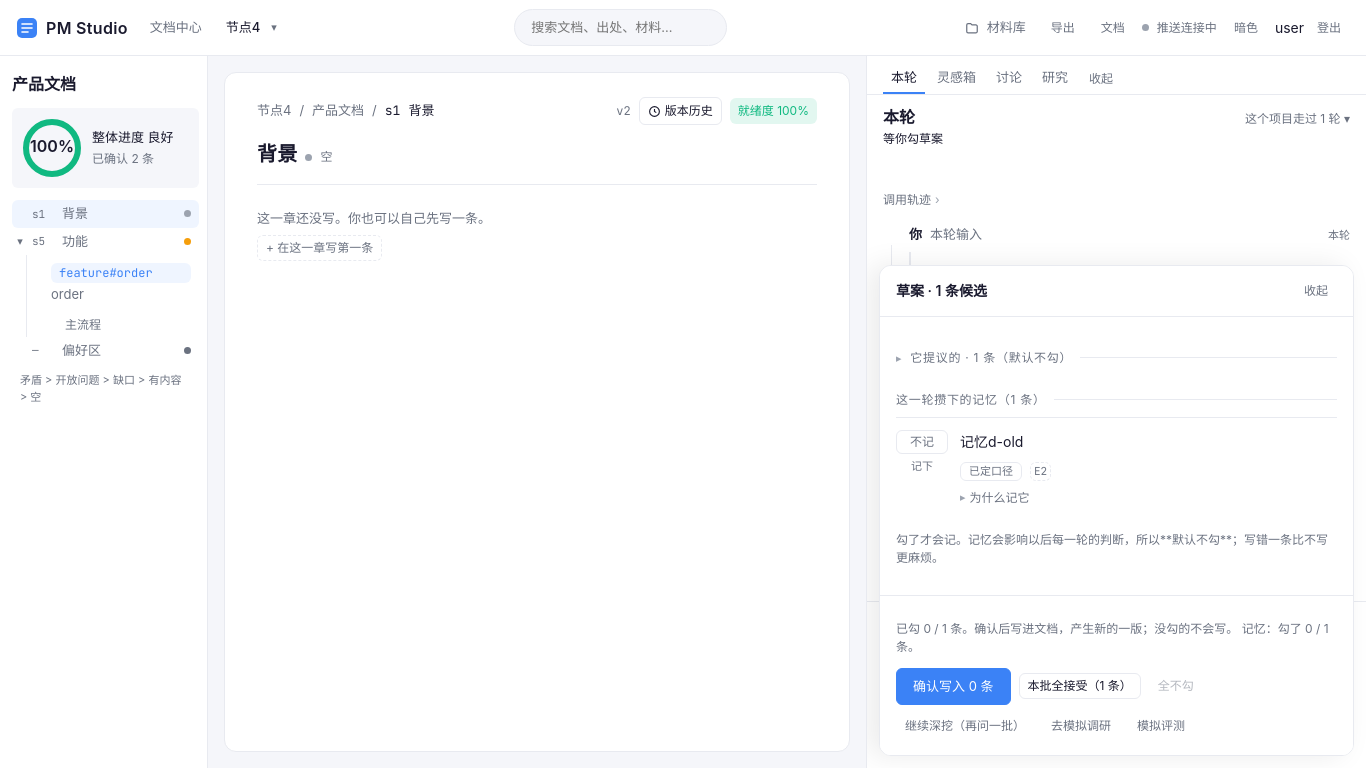
Test: App 精确跳转遇到正文与偏好同ID多命中时提示不可唯一定位，不假跳
Expected: the text "记忆d-old" is shown, [960,433,1023,450]
Click the heading "它提议的 · 1 条（默认不勾）" at coordinates (991, 357), box [910,350,1072,365]
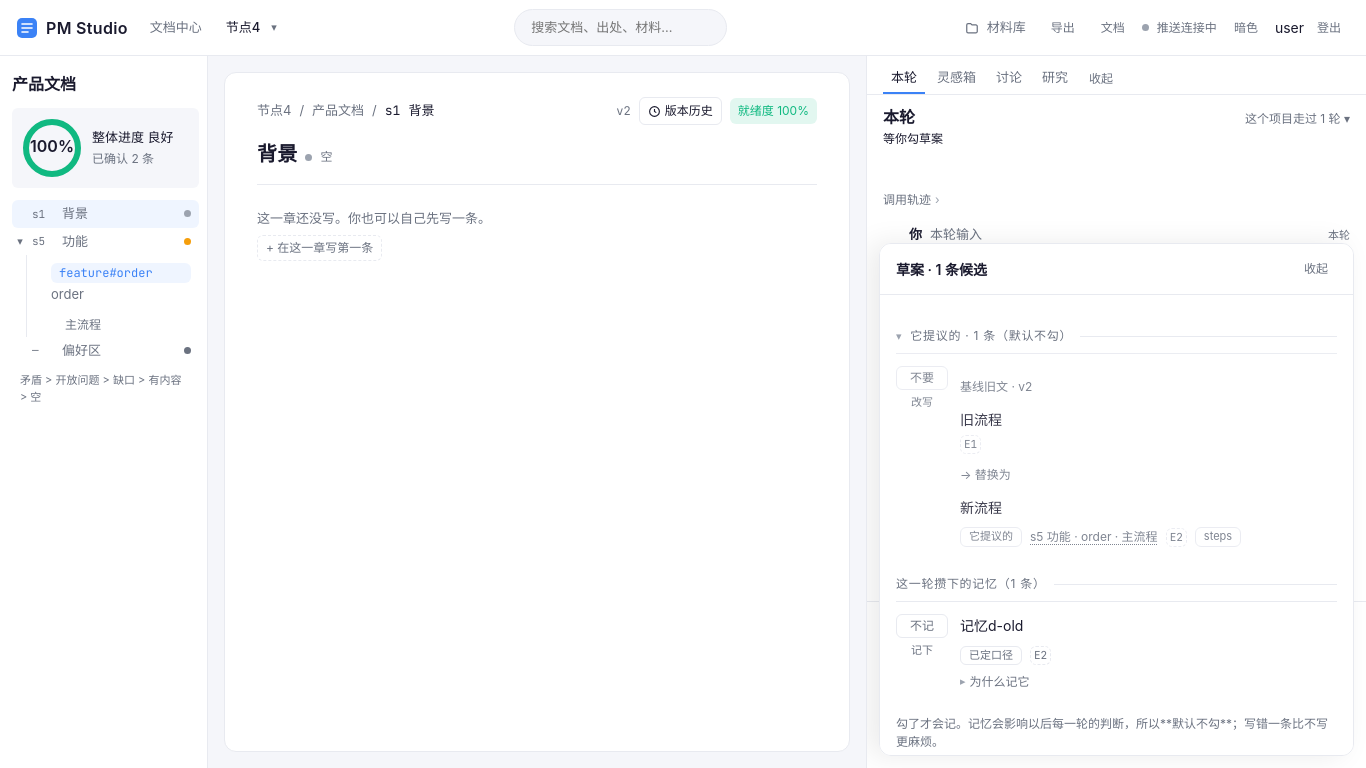
Click the button "s5 功能 · order · 主流程" at coordinates (1094, 537), box [1030,528,1158,546]
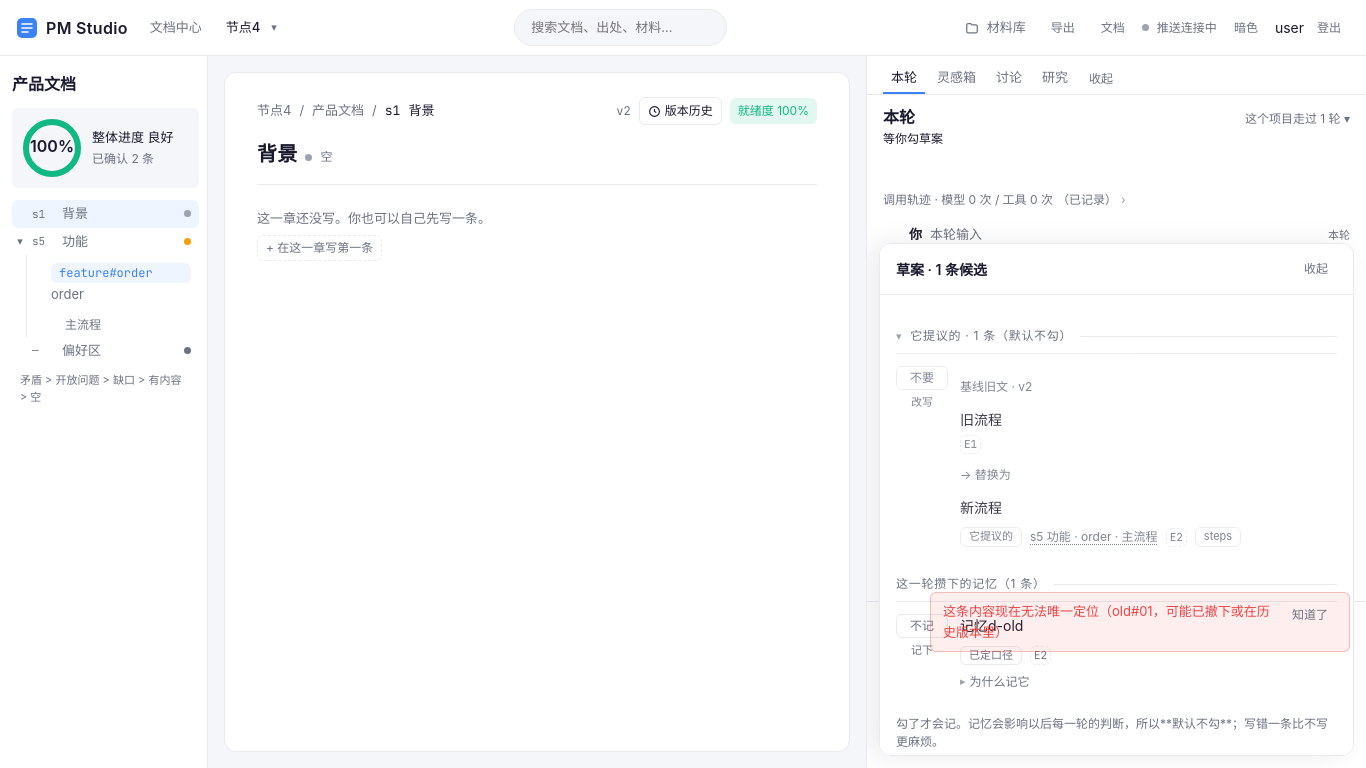
Expected: the text "这条内容现在无法唯一定位（old#01，可能已撤下或在历史版本里） 知道了" is shown, [930,592,1350,652]
